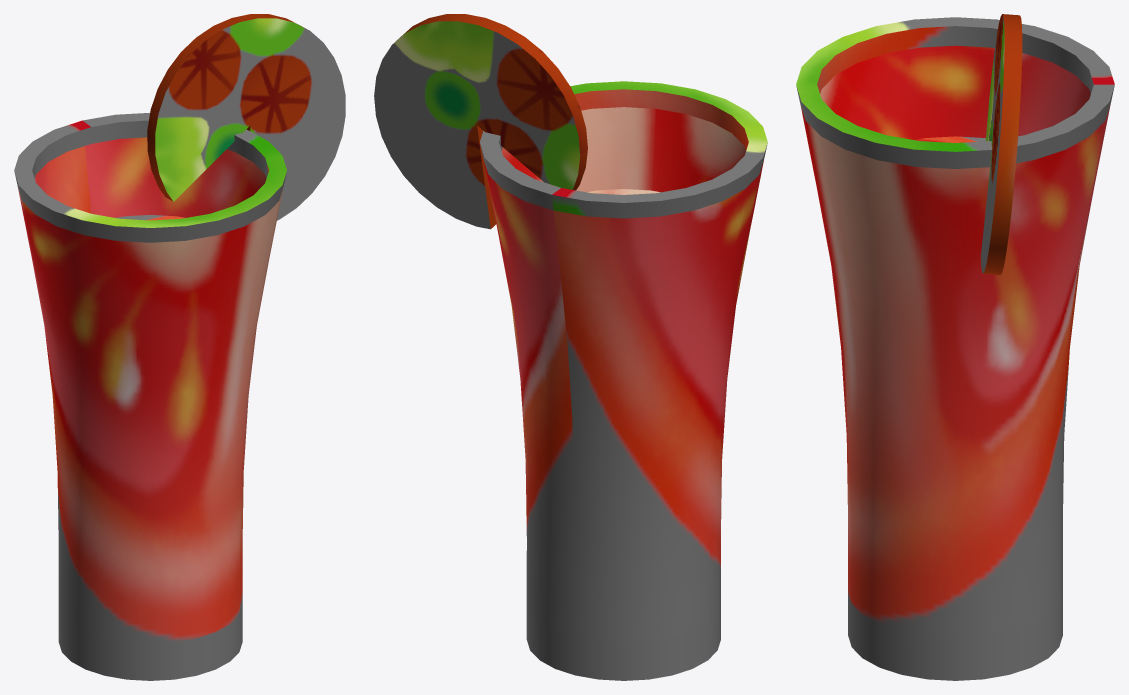
The model's file is Lab_2_tomato_juice low.fbx.
3 renders of one model, left to right at view 1: azimuth 30°, elevation 25°; view 2: azimuth 150°, elevation 25°; view 3: azimuth 270°, elevation 25°, orthographic. The views are drawn at different scales.
Visible parts, largest first — view 1: Cylinder.001, tomato.001; view 2: Cylinder.001, tomato.001; view 3: Cylinder.001, tomato.001.
Part boxes in pixels (<box>): Cylinder.001: <box>14,113,286,680</box>; tomato.001: <box>147,14,345,220</box>; Cylinder.001: <box>480,81,767,680</box>; tomato.001: <box>374,14,587,229</box>; Cylinder.001: <box>796,17,1114,680</box>; tomato.001: <box>981,14,1022,274</box>.
Size of the model in its own units: 1.83 by 3.05 by 1.31.
